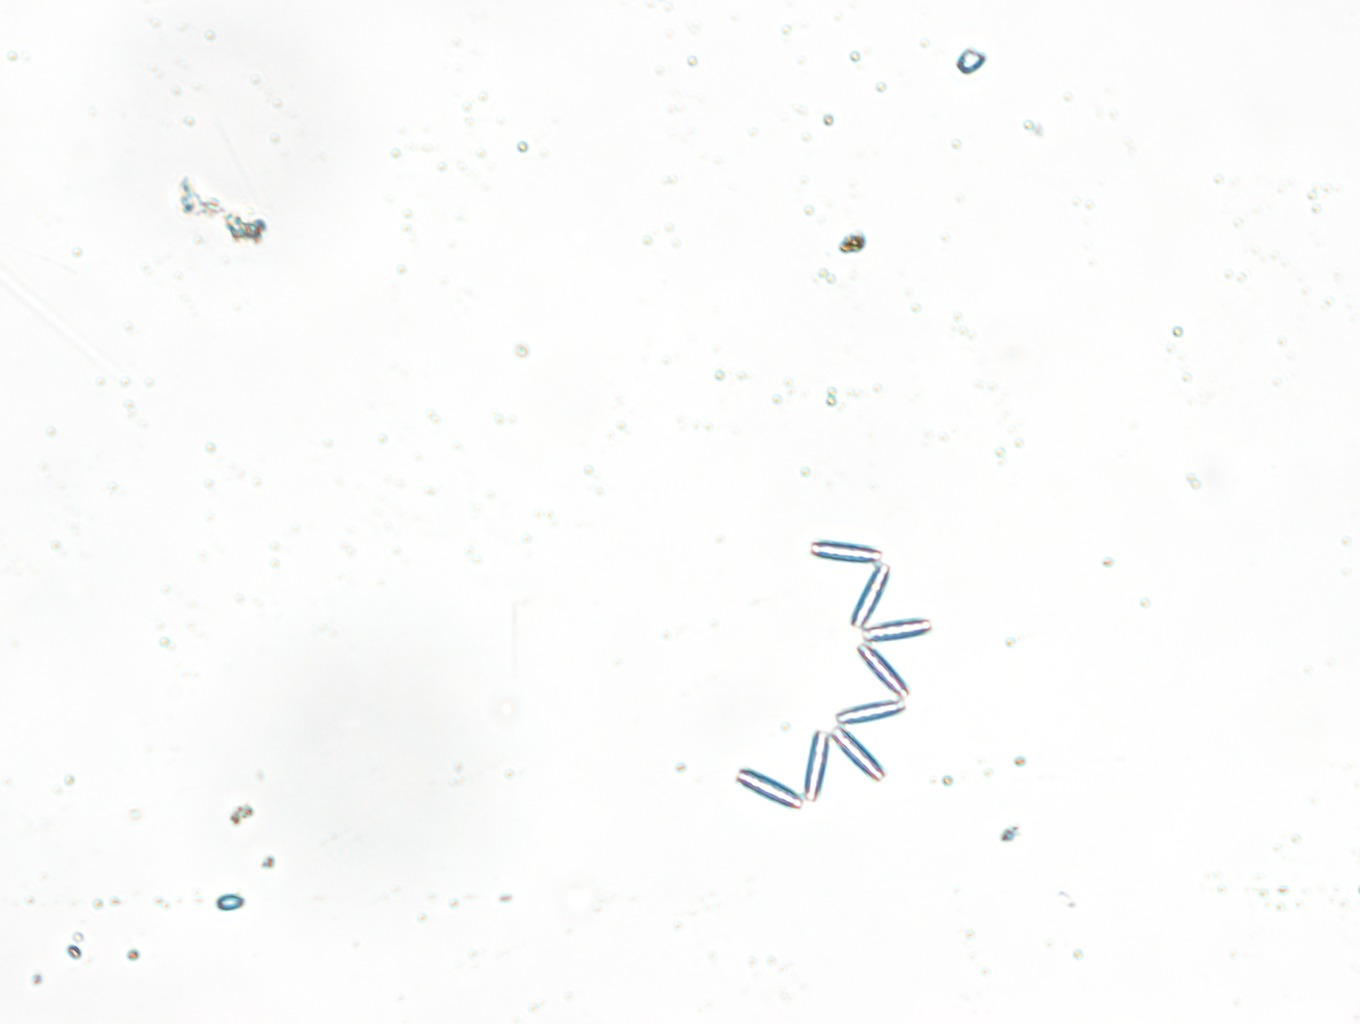thalassionema nitzschioides: (738, 539, 932, 807)
